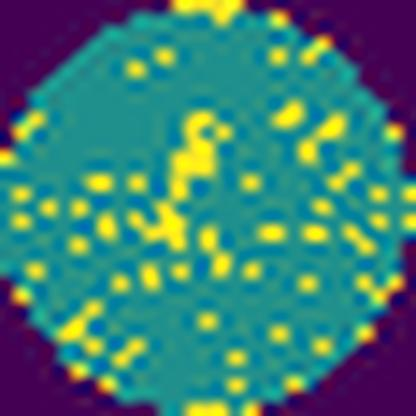Scratch: (122, 106, 239, 254)
